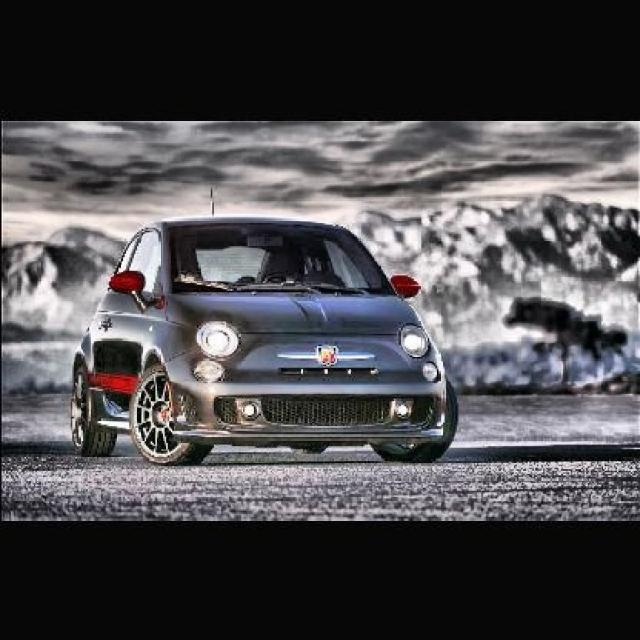black: (68, 209, 447, 454)
